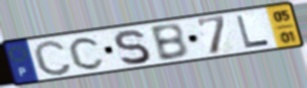7: (196, 14, 229, 56)
B: (148, 22, 191, 63)
C: (31, 39, 75, 78), (67, 35, 107, 72)
L: (234, 14, 272, 49)
S: (111, 29, 152, 68)
